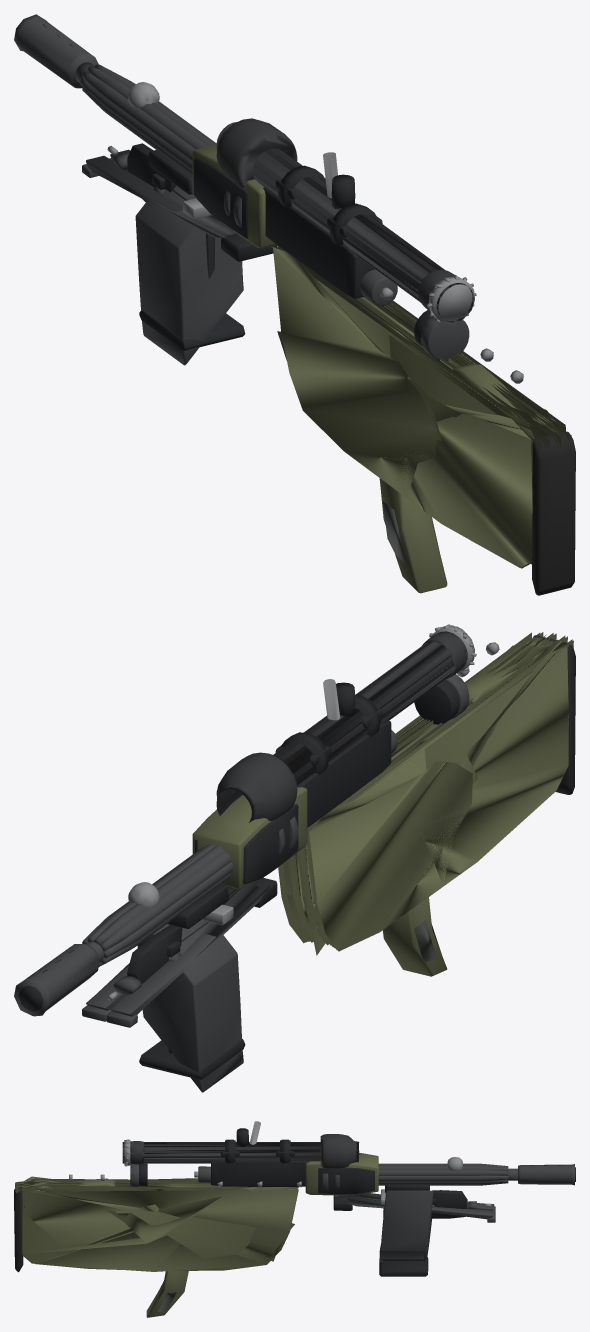
File: awp.glb
3 renders of one model, top to bottom at view 1: azimuth 30°, elevation 25°; view 2: azimuth 150°, elevation 25°; view 3: azimuth 270°, elevation 25°, orthographic. The views are drawn at different scales.
Parts seen in each view (by area): view 1: Stock, Barrel_Batched, MagazineBody, Action_Batched, ScopeTube, ButtPad, CheekRiser_Batched, ActionScrew0_Batched, MagazineFloor, TriggerGuard, MagazineWell, BoltShroud (+1 smaller); view 2: Stock, Barrel_Batched, ScopeTube, Action_Batched, MagazineBody, CheekRiser_Batched, TriggerGuard, MagazineFloor, ButtPad, MagazineWell, ActionScrew0_Batched, BoltKnob (+1 smaller); view 3: Stock, Barrel_Batched, Action_Batched, ScopeTube, MagazineBody, CheekRiser_Batched, MagazineFloor, TriggerGuard, ButtPad, ActionScrew0_Batched, MagazineWell.
Part boxes in pixels (left/top/right/bottom): Stock: left=271, top=245, right=571, bottom=568; Barrel_Batched: left=14, top=14, right=469, bottom=360; MagazineBody: left=135, top=186, right=243, bottom=365; Action_Batched: left=31, top=24, right=430, bottom=346; ScopeTube: left=216, top=118, right=473, bottom=322; ButtPad: left=532, top=431, right=575, bottom=595; CheekRiser_Batched: left=192, top=144, right=516, bottom=593; ActionScrew0_Batched: left=107, top=146, right=523, bottom=383; MagazineFloor: left=139, top=310, right=245, bottom=350; TriggerGuard: left=127, top=143, right=176, bottom=201; MagazineWell: left=148, top=150, right=192, bottom=194; BoltShroud: left=360, top=269, right=397, bottom=305; Stock: left=278, top=632, right=573, bottom=955; Barrel_Batched: left=14, top=674, right=469, bottom=1027; ScopeTube: left=216, top=631, right=467, bottom=822; Action_Batched: left=18, top=680, right=459, bottom=1011; MagazineBody: left=137, top=919, right=243, bottom=1092; CheekRiser_Batched: left=192, top=663, right=517, bottom=976; TriggerGuard: left=127, top=924, right=182, bottom=983; MagazineFloor: left=139, top=1039, right=245, bottom=1079; ButtPad: left=533, top=635, right=575, bottom=794; MagazineWell: left=167, top=884, right=228, bottom=928; ActionScrew0_Batched: left=107, top=624, right=499, bottom=1000; BoltKnob: left=128, top=882, right=159, bottom=907; Stock: left=15, top=1176, right=299, bottom=1271; Barrel_Batched: left=130, top=1161, right=574, bottom=1222; Action_Batched: left=139, top=1128, right=575, bottom=1210; ScopeTube: left=122, top=1134, right=359, bottom=1168; MagazineBody: left=379, top=1190, right=433, bottom=1262; CheekRiser_Batched: left=70, top=1153, right=378, bottom=1317; MagazineFloor: left=379, top=1257, right=428, bottom=1276; TriggerGuard: left=431, top=1190, right=467, bottom=1218; ButtPad: left=14, top=1182, right=23, bottom=1272; ActionScrew0_Batched: left=69, top=1139, right=491, bottom=1206; MagazineWell: left=385, top=1184, right=429, bottom=1193.
Size of the model in its own units: 0.0781 by 0.4396 by 1.16.
